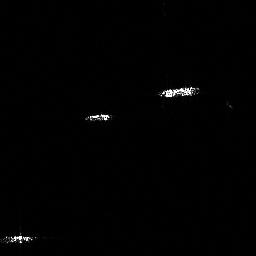ship: (157, 84, 200, 99), (1, 232, 37, 246), (82, 111, 113, 123)
